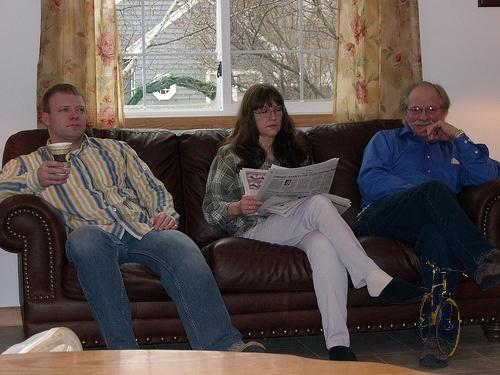tampered: (419, 262, 482, 356)
